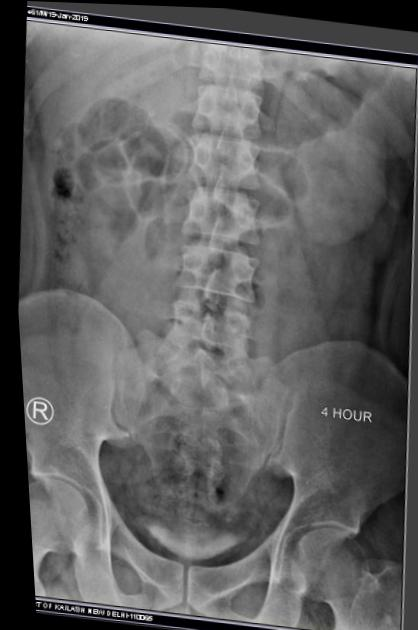bladder: (108, 462, 262, 574)
vertebrae: (186, 82, 269, 140)
